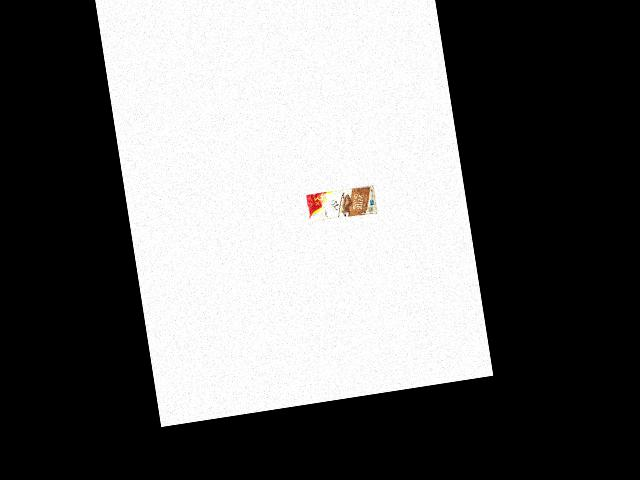chocolate: (304, 182, 376, 225)
